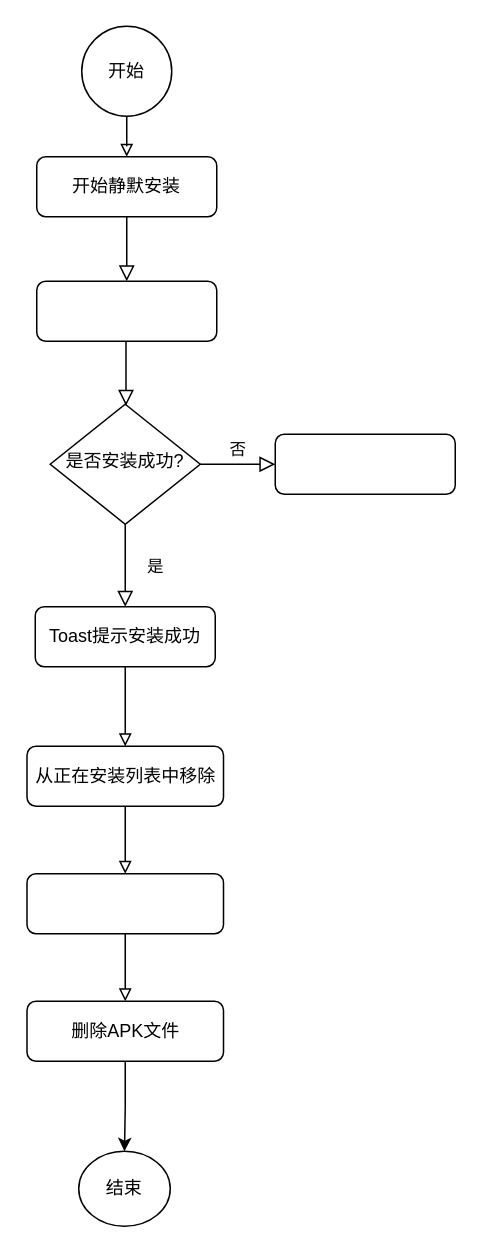
The diagram is 482 pixels wide and 1253 high, and some of its shapes have lost their labels. The shapes that lost their labels are listed below. From the top down, each one's centre as x and y in pixels, then its label:
At (x=126, y=310): "加入正在安装列表".
At (x=364, y=463): "Toast提示安装失败".
At (x=125, y=903): "删除下载任务".
